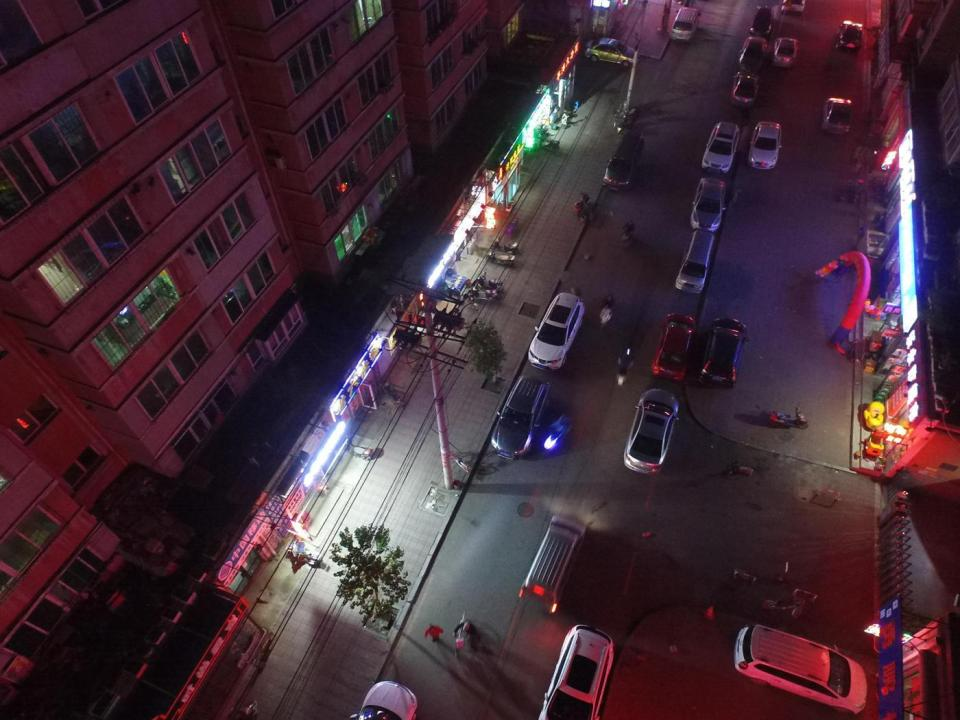car: (735, 625, 869, 716), (539, 624, 616, 719), (490, 375, 552, 460), (624, 388, 680, 475), (528, 290, 584, 370), (652, 313, 696, 385), (702, 319, 748, 387), (352, 679, 417, 720), (687, 176, 726, 230), (704, 122, 741, 173), (587, 37, 640, 66), (752, 122, 783, 169), (824, 95, 852, 137), (669, 8, 701, 41), (742, 35, 768, 74), (733, 71, 760, 108), (774, 36, 802, 69), (837, 19, 862, 53), (750, 7, 772, 41), (237, 699, 259, 719), (780, 0, 805, 14)
van: (522, 515, 589, 614), (676, 229, 716, 296), (604, 130, 643, 193)
